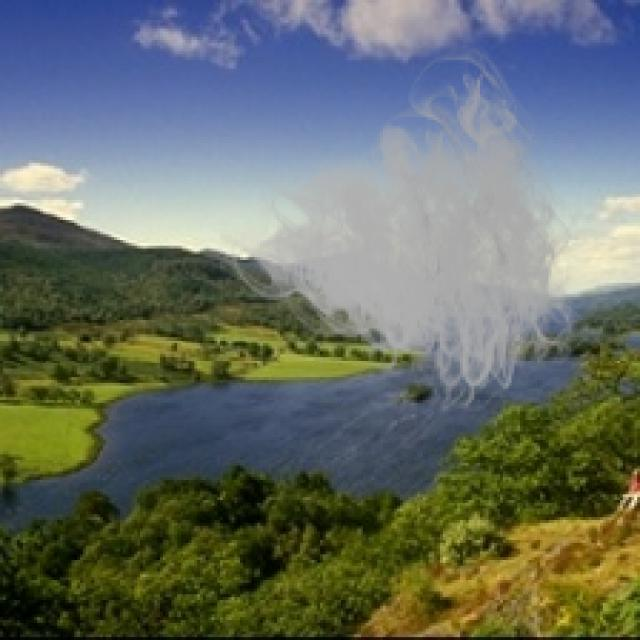smoke: (220, 40, 597, 423)
